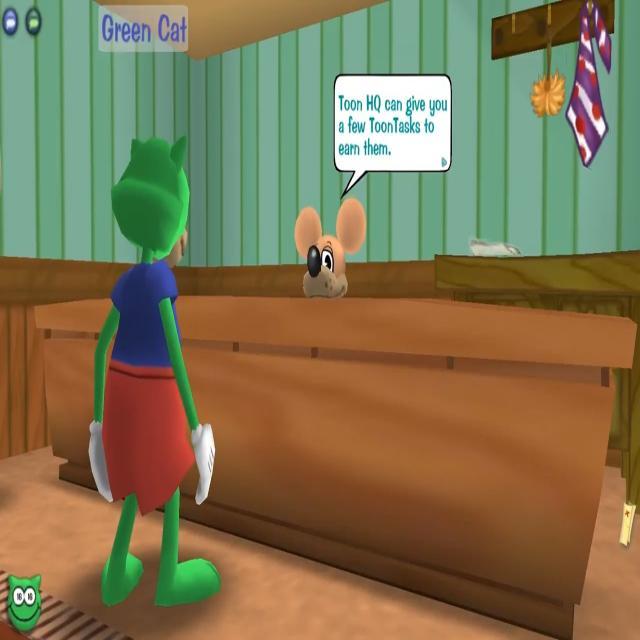npc: (295, 200, 366, 301)
